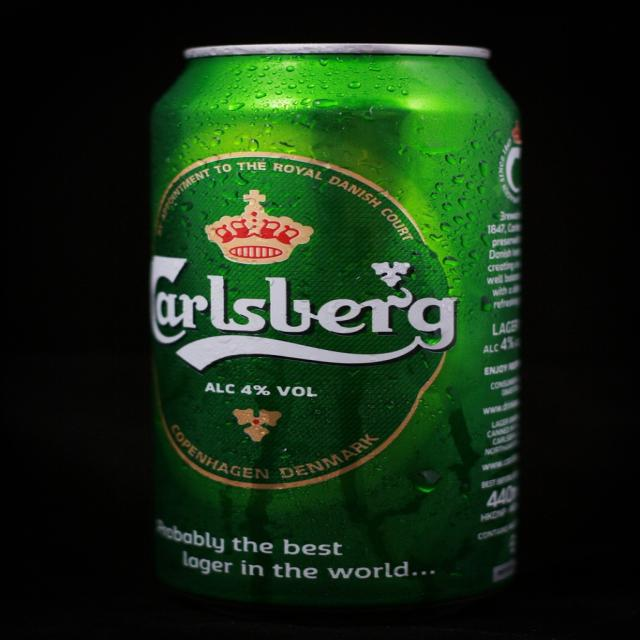carlsberg: (145, 149, 466, 492)
